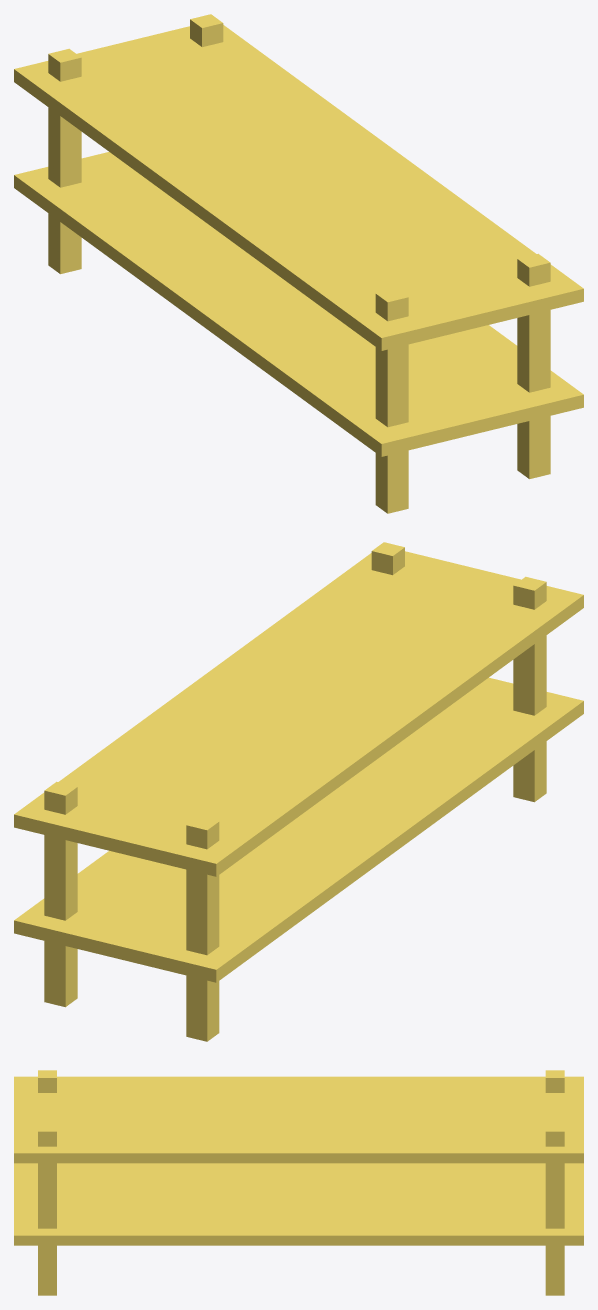
Rendered from estante02.obj.
The picture shows the model from 3 angles, top to bottom: view 1: azimuth 30°, elevation 25°; view 2: azimuth 150°, elevation 25°; view 3: azimuth 270°, elevation 25°; orthographic projection. The views are drawn at different scales.
Visible parts, largest first — view 1: Cube.003_Cube.007; view 2: Cube.003_Cube.007; view 3: Cube.003_Cube.007.
Part boxes in pixels (x1,y1,x2,y2): Cube.003_Cube.007: (14,14,583,513); Cube.003_Cube.007: (14,542,583,1041); Cube.003_Cube.007: (14,1070,583,1295).
Bounding box in the file's own units: 2 × 2 × 6.29.
